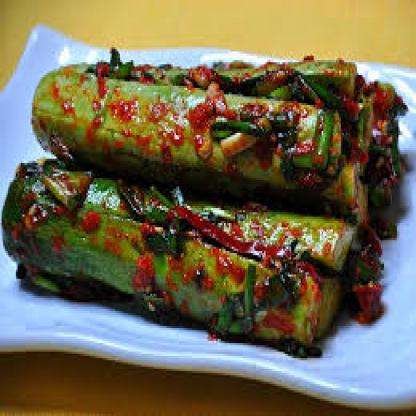cucumber kimchi: (8, 53, 400, 336)
